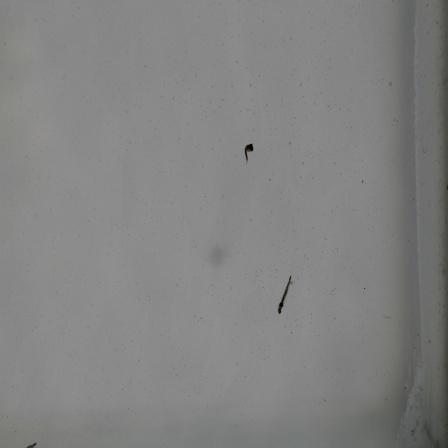Jentik-Nyamuk: (273, 271, 296, 317), (243, 139, 258, 162)
